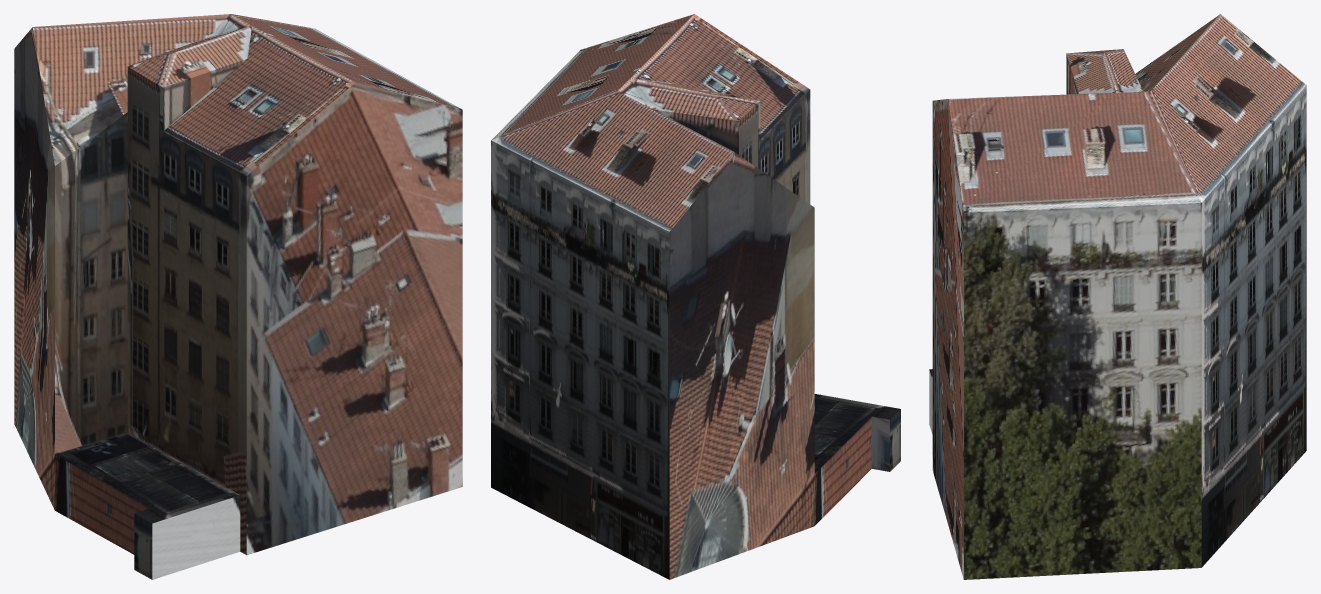
3 views of the same model, side by side, from view 1: azimuth 30°, elevation 25°; view 2: azimuth 150°, elevation 25°; view 3: azimuth 270°, elevation 25° (orthographic). The views are drawn at different scales.
Visible parts, largest first — view 1: Z_UP; view 2: Z_UP; view 3: Z_UP.
Boxes of the visible parts, x1,y1,x2,y2 form: Z_UP: (14,14,462,579); Z_UP: (491,14,900,579); Z_UP: (929,14,1306,579).
Bounding box in the file's own units: 21.33 × 26.97 × 21.63.
2 materials, 1 textured.
